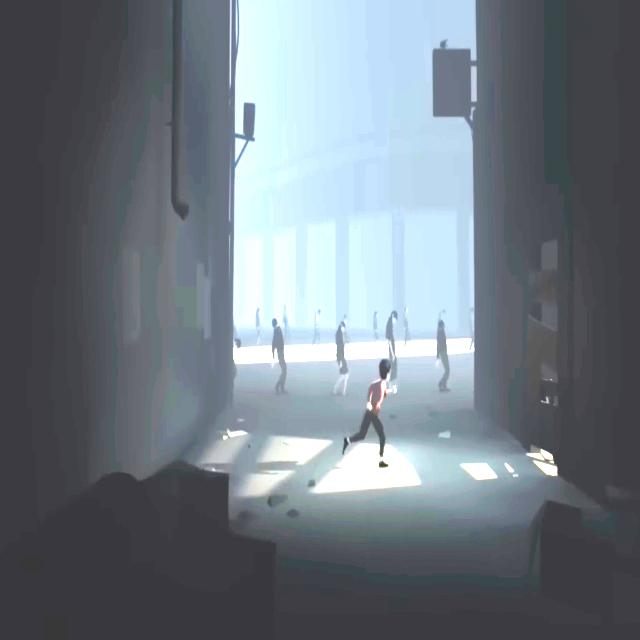boy: (342, 358, 397, 468)
zombie: (272, 318, 288, 394), (333, 322, 349, 398), (436, 320, 450, 392), (386, 311, 398, 358), (233, 338, 241, 389), (312, 310, 322, 348), (283, 304, 292, 346), (403, 307, 411, 349), (469, 306, 475, 351), (255, 307, 261, 346), (373, 312, 379, 349)
